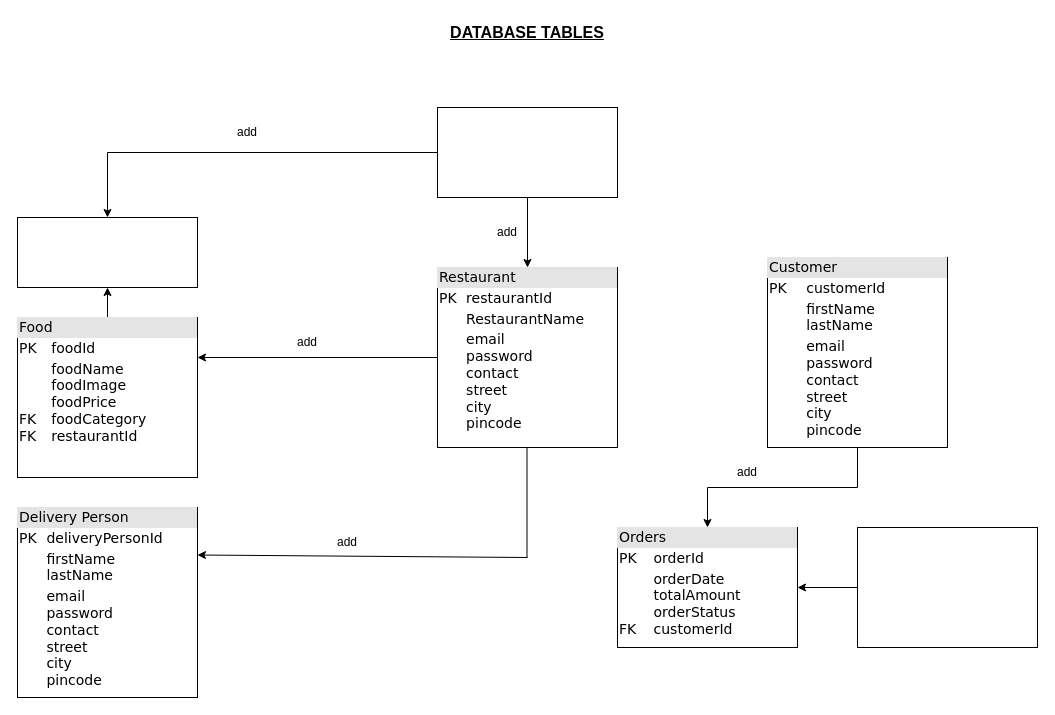
The diagram is 1055 pixels wide and 715 high, and some of its shapes have lost their labels. The shapes that lost their labels are listed below. From the top down, each one's centre as x and y in pixels, then its label:
At pixel 527 152: "admin PK adminId email password".
At pixel 107 252: "Food Categories PK categoryId categoryName".
At pixel 947 587: "Order_items PK orderItemId FK FK quantity orderId foodId".
